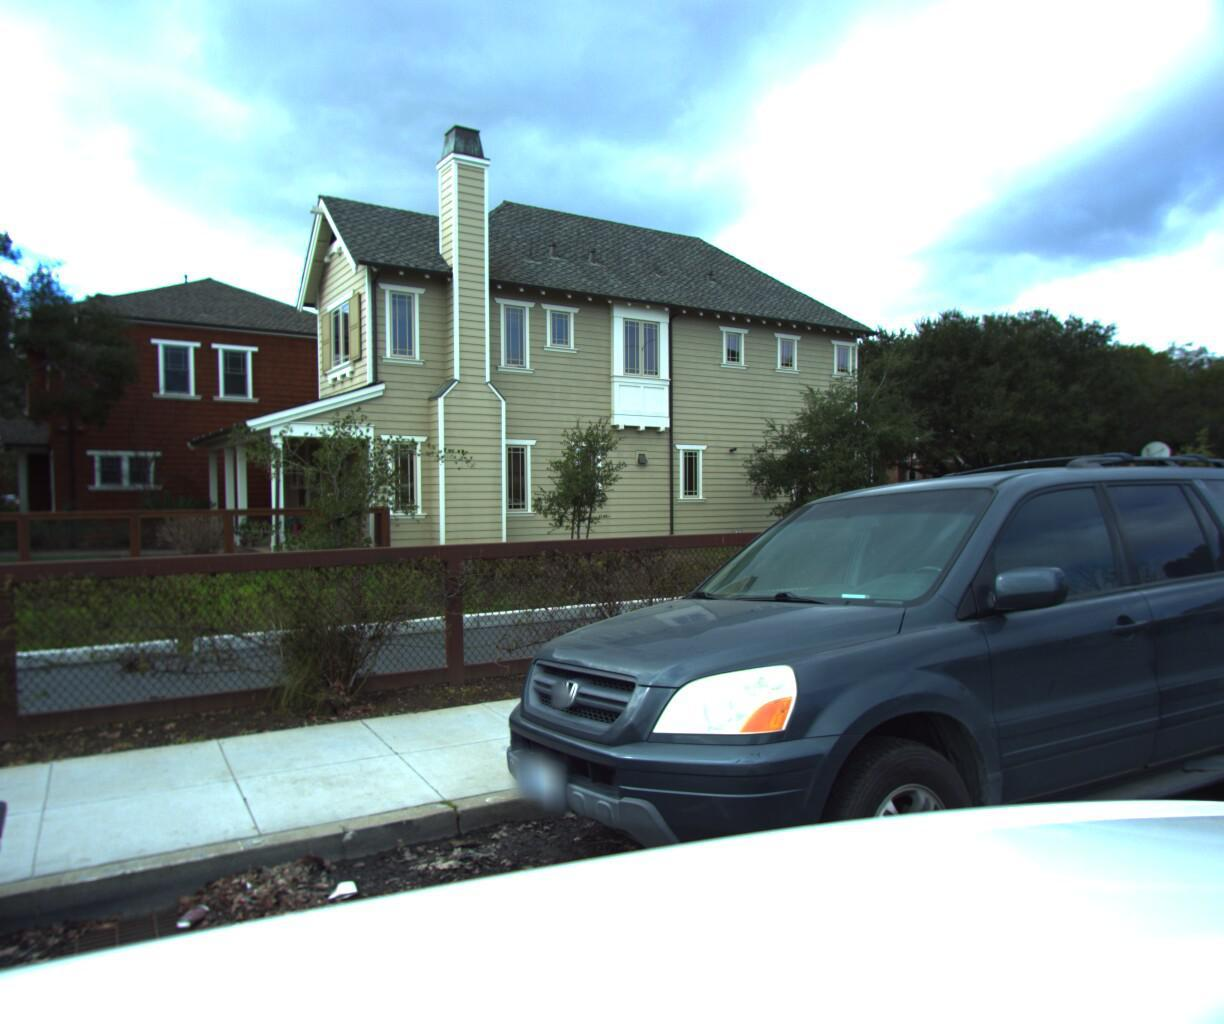car: (455, 439, 1224, 1024), (1209, 416, 1224, 730)
